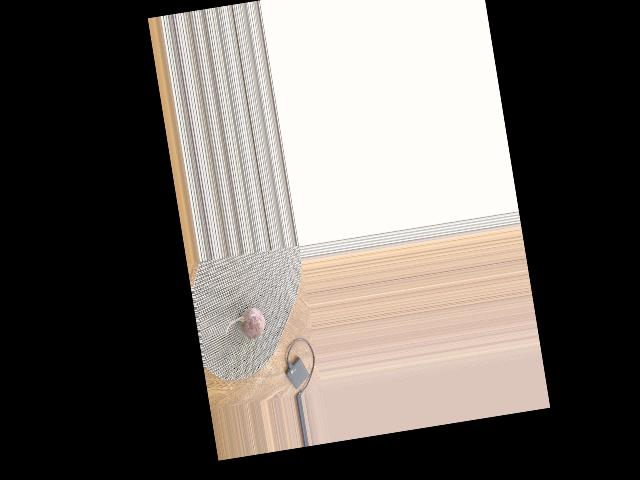beet: (221, 306, 266, 343)
